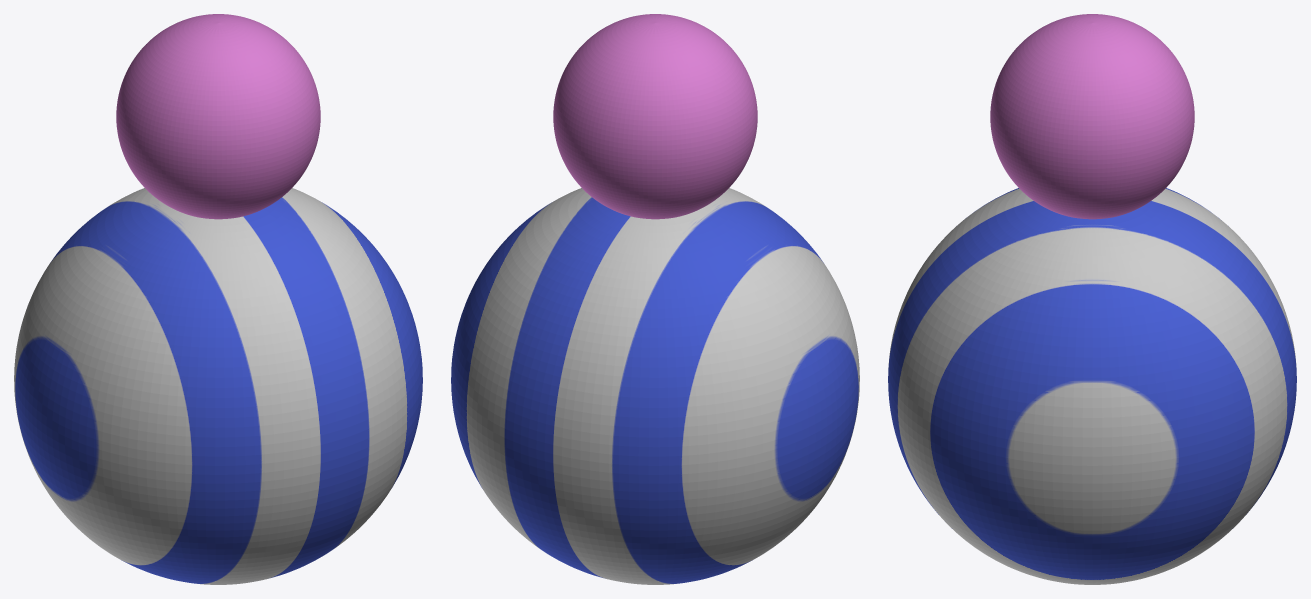
File: BOD0_BMC0_BCC13_BPT1_FRC0_HEA0_HMC10_HCC0_HPT0_ELT0_ERT0_ELL0_ERL0_AP0_AAL0_AAR0_BEK0.fbx
3 views of the same model, side by side, from view 1: azimuth 30°, elevation 25°; view 2: azimuth 150°, elevation 25°; view 3: azimuth 270°, elevation 25° (orthographic).
Parts seen in each view (by area): view 1: Body, Head; view 2: Body, Head; view 3: Body, Head.
Part boxes in pixels (x1=…): Body: x1=14, y1=188, x2=422, y2=584; Head: x1=116, y1=14, x2=320, y2=219; Body: x1=451, y1=188, x2=859, y2=584; Head: x1=553, y1=14, x2=757, y2=219; Body: x1=888, y1=188, x2=1296, y2=584; Head: x1=990, y1=14, x2=1194, y2=219.
Size of the model in its own units: 98.72 by 145 by 98.72.
Materials: 2 (2 with a texture image).
